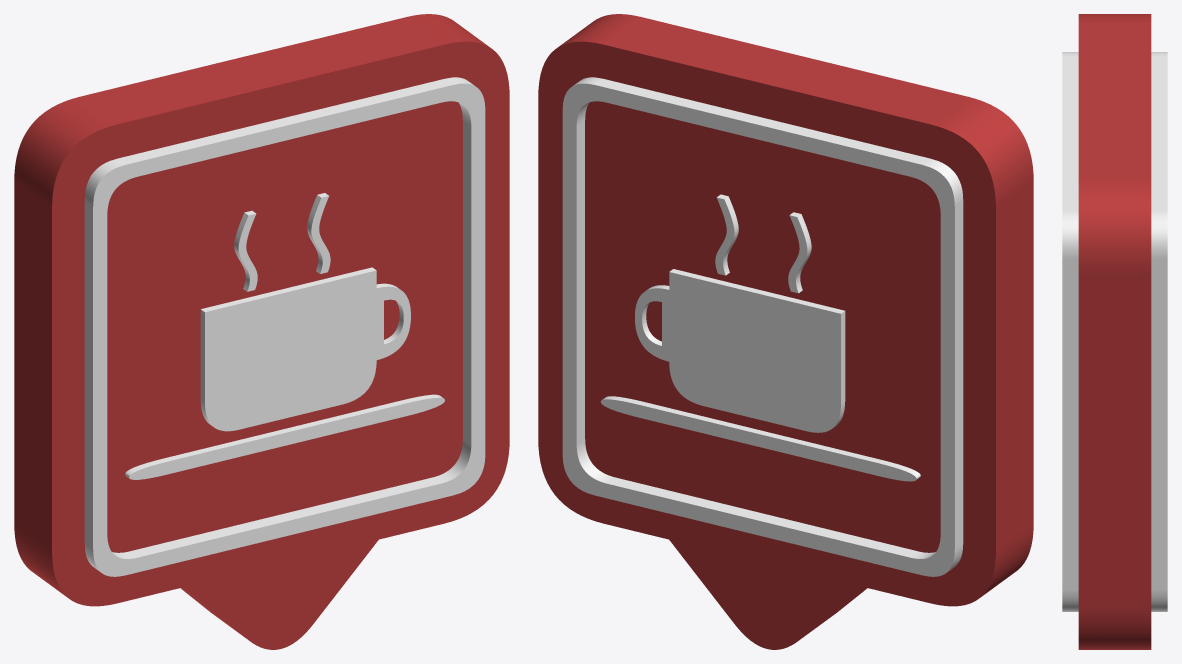
Rendered from restarea_3d.glb.
The picture shows the model from 3 angles, left to right: view 1: azimuth 30°, elevation 25°; view 2: azimuth 150°, elevation 25°; view 3: azimuth 270°, elevation 25°; orthographic projection. The views are drawn at different scales.
Bounding box in the file's own units: 0.2206 × 0.26 × 0.0456.
